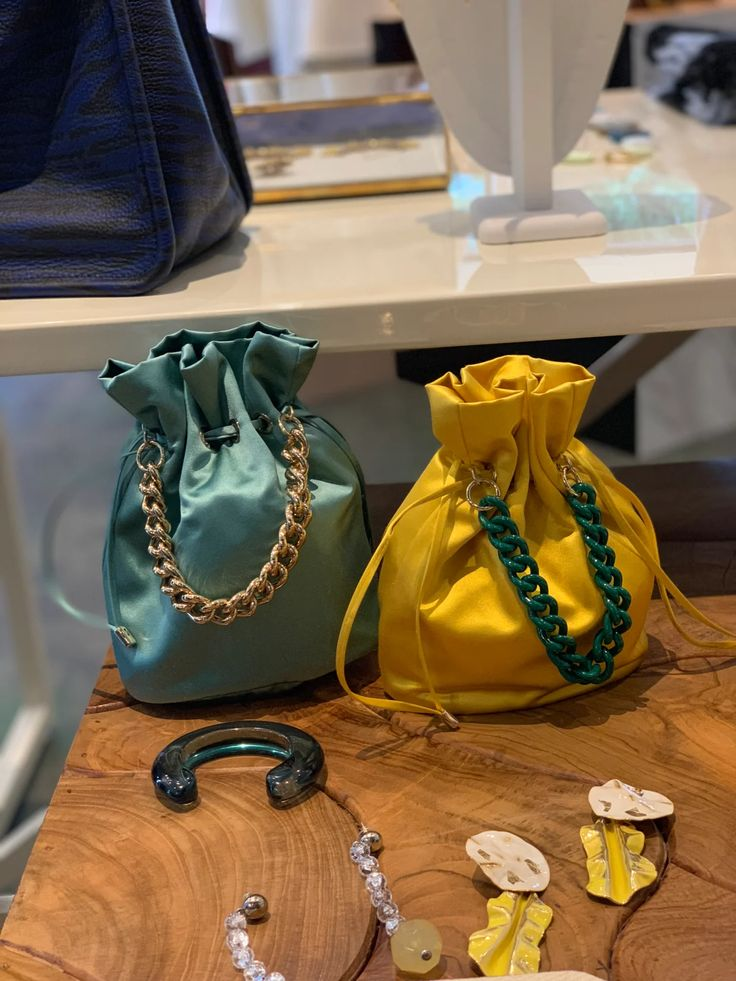cuero: (2, 1, 255, 298)
